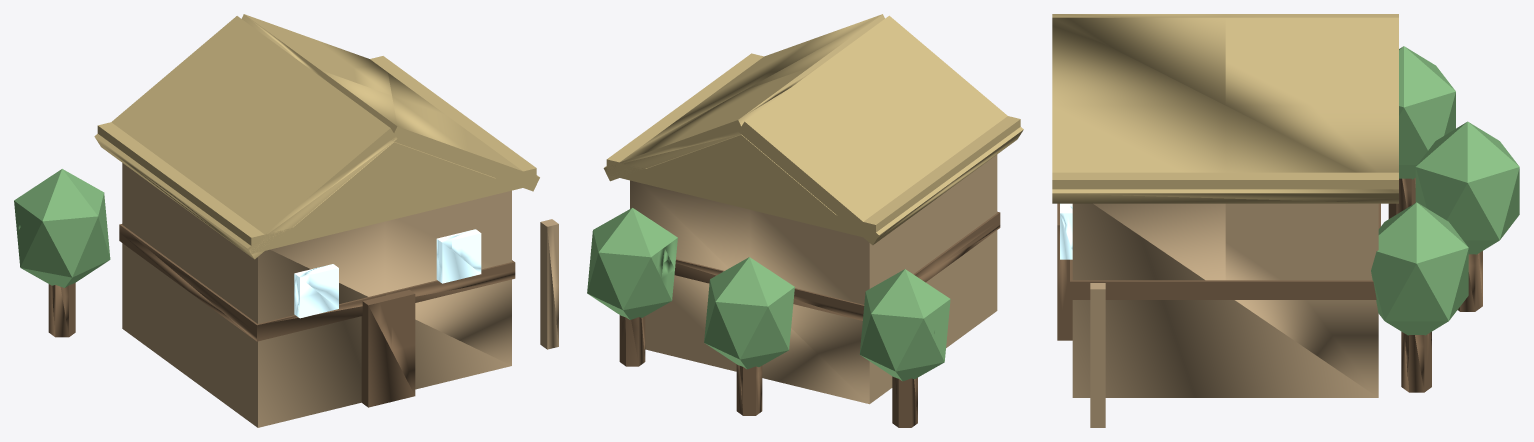
Rendered from forester.glb.
3 renders of one model, left to right at view 1: azimuth 30°, elevation 25°; view 2: azimuth 150°, elevation 25°; view 3: azimuth 270°, elevation 25°, orthographic. The views are drawn at different scales.
Parts seen in each view (by area): view 1: ForesterWall; view 2: ForesterWall; view 3: ForesterWall.
Boxes of the visible parts, box(x1,y1,x2,y2) form: ForesterWall: box(14, 14, 558, 427); ForesterWall: box(587, 14, 1023, 427); ForesterWall: box(1052, 14, 1519, 427).
Bounding box in the file's own units: 2.04 × 1.35 × 1.83.
